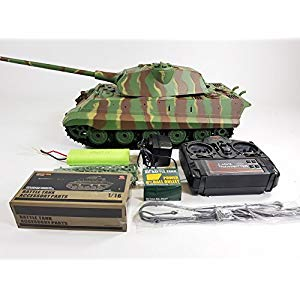Battle Tank: (9, 52, 252, 142)
